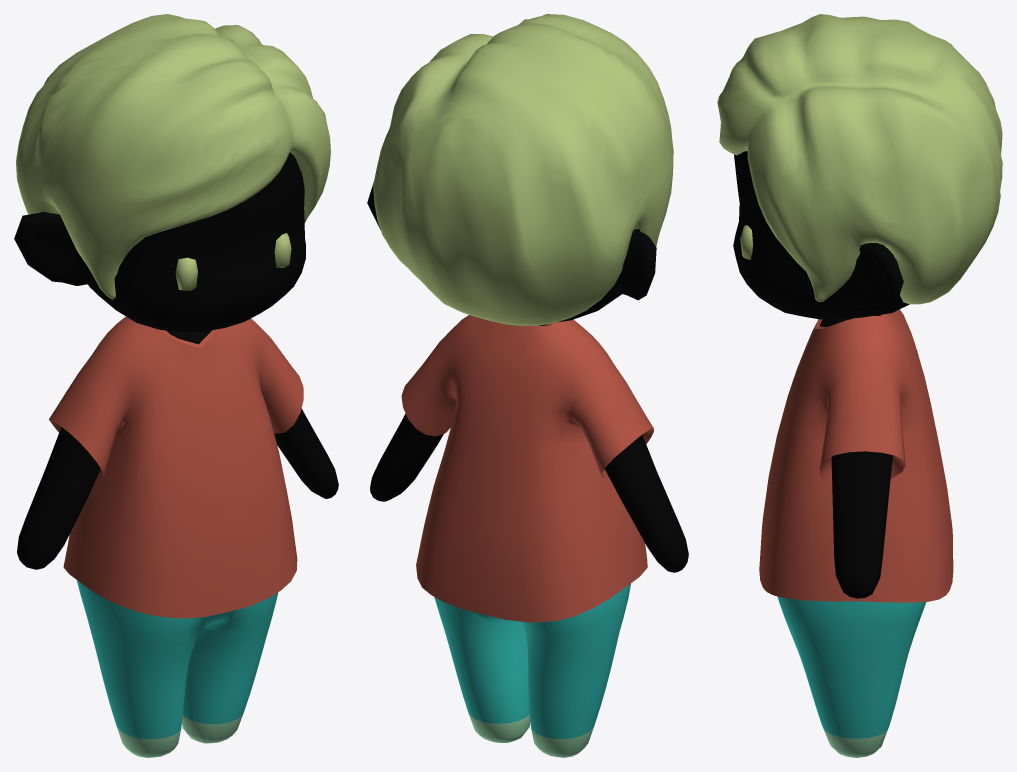
The model's file is Char_REF.fbx.
3 views of the same model, side by side, from view 1: azimuth 30°, elevation 25°; view 2: azimuth 150°, elevation 25°; view 3: azimuth 270°, elevation 25° (orthographic).
Parts seen in each view (by area): view 1: c_male_clothes; view 2: c_male_clothes; view 3: c_male_clothes.
Boxes of the visible parts, x1,y1,x2,y2 form: c_male_clothes: (14, 14, 338, 757); c_male_clothes: (367, 14, 688, 757); c_male_clothes: (717, 14, 1002, 757).
Size of the model in its own units: 0.4843 by 0.3828 by 1.05.
